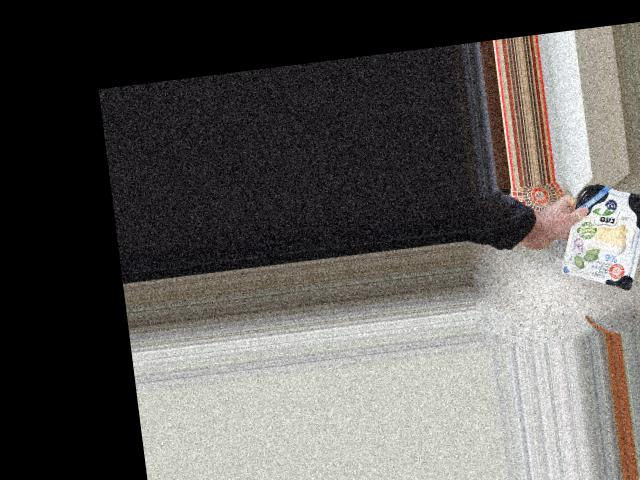cheese: (562, 192, 640, 286)
